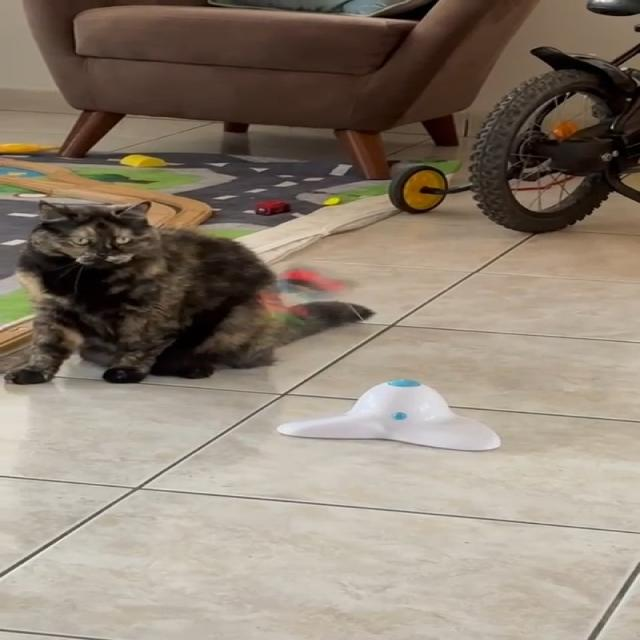authorized: (4, 199, 375, 384)
